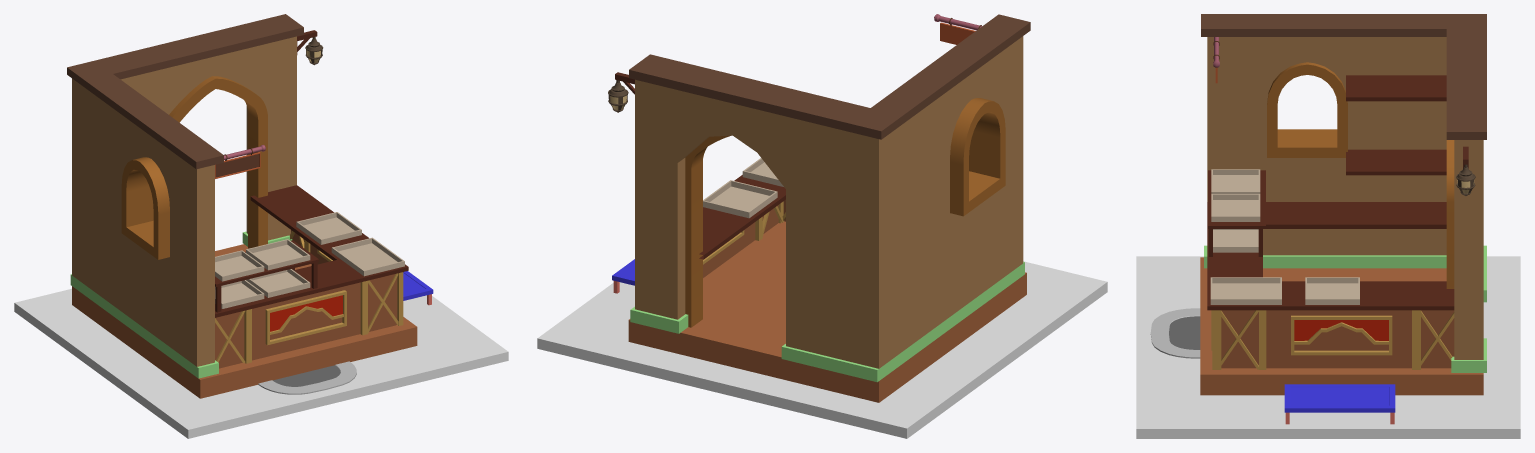
File: Sweets-Bites.fbx
The picture shows the model from 3 angles, left to right: view 1: azimuth 30°, elevation 25°; view 2: azimuth 150°, elevation 25°; view 3: azimuth 270°, elevation 25°; orthographic projection. The views are drawn at different scales.
Visible parts, largest first — view 1: Cube, Cube.028, Cube.004, Cube.005, Cube.001, Cube.003, Cube.002, Cube.011, Cube.012, Cube.018, Cube.014, Cube.029 (+10 smaller); view 2: Cube, Cube.028, Cube.004, Cube.003, Cube.002, Cube.001, Cube.012, Cube.005, Cylinder, Cube.011; view 3: Cube, Cube.028, Cube.004, Cube.001, Cube.005, Cube.003, Cube.030, Cube.019, Cube.020, Cube.011, Cube.012, Cube.018 (+15 smaller).
Boxes of the visible parts, left/top/right/bottom form: Cube: left=70, top=36, right=417, bottom=398; Cube.028: left=14, top=288, right=508, bottom=438; Cube.004: left=67, top=14, right=303, bottom=169; Cube.005: left=215, top=230, right=397, bottom=368; Cube.001: left=215, top=185, right=408, bottom=317; Cube.003: left=121, top=157, right=169, bottom=259; Cube.002: left=169, top=76, right=267, bottom=248; Cube.011: left=331, top=237, right=404, bottom=276; Cube.012: left=296, top=212, right=361, bottom=244; Cube.018: left=246, top=239, right=310, bottom=270; Cube.014: left=246, top=269, right=310, bottom=297; Cube.029: left=258, top=361, right=356, bottom=394; Cube: left=628, top=36, right=1026, bottom=402; Cube.028: left=537, top=261, right=1107, bottom=438; Cube.004: left=629, top=14, right=1030, bottom=139; Cube.003: left=950, top=98, right=1005, bottom=216; Cube.002: left=685, top=135, right=730, bottom=327; Cube.001: left=699, top=175, right=785, bottom=259; Cube.012: left=703, top=180, right=777, bottom=218; Cube.005: left=703, top=199, right=785, bottom=277; Cylinder: left=934, top=14, right=981, bottom=44; Cube.011: left=742, top=158, right=783, bottom=186; Cube: left=1200, top=37, right=1486, bottom=395; Cube.028: left=1136, top=256, right=1520, bottom=438; Cube.004: left=1201, top=14, right=1486, bottom=139; Cube.001: left=1207, top=202, right=1454, bottom=310; Cube.005: left=1221, top=310, right=1454, bottom=368; Cube.003: left=1267, top=62, right=1347, bottom=157; Cube.030: left=1284, top=384, right=1395, bottom=424; Cube.019: left=1346, top=75, right=1446, bottom=101; Cube.020: left=1346, top=149, right=1446, bottom=175; Cube.011: left=1210, top=277, right=1281, bottom=304; Cube.012: left=1305, top=277, right=1359, bottom=304; Cube.018: left=1211, top=194, right=1260, bottom=221.
Bounding box in the file's own units: 715 × 525 × 672.
